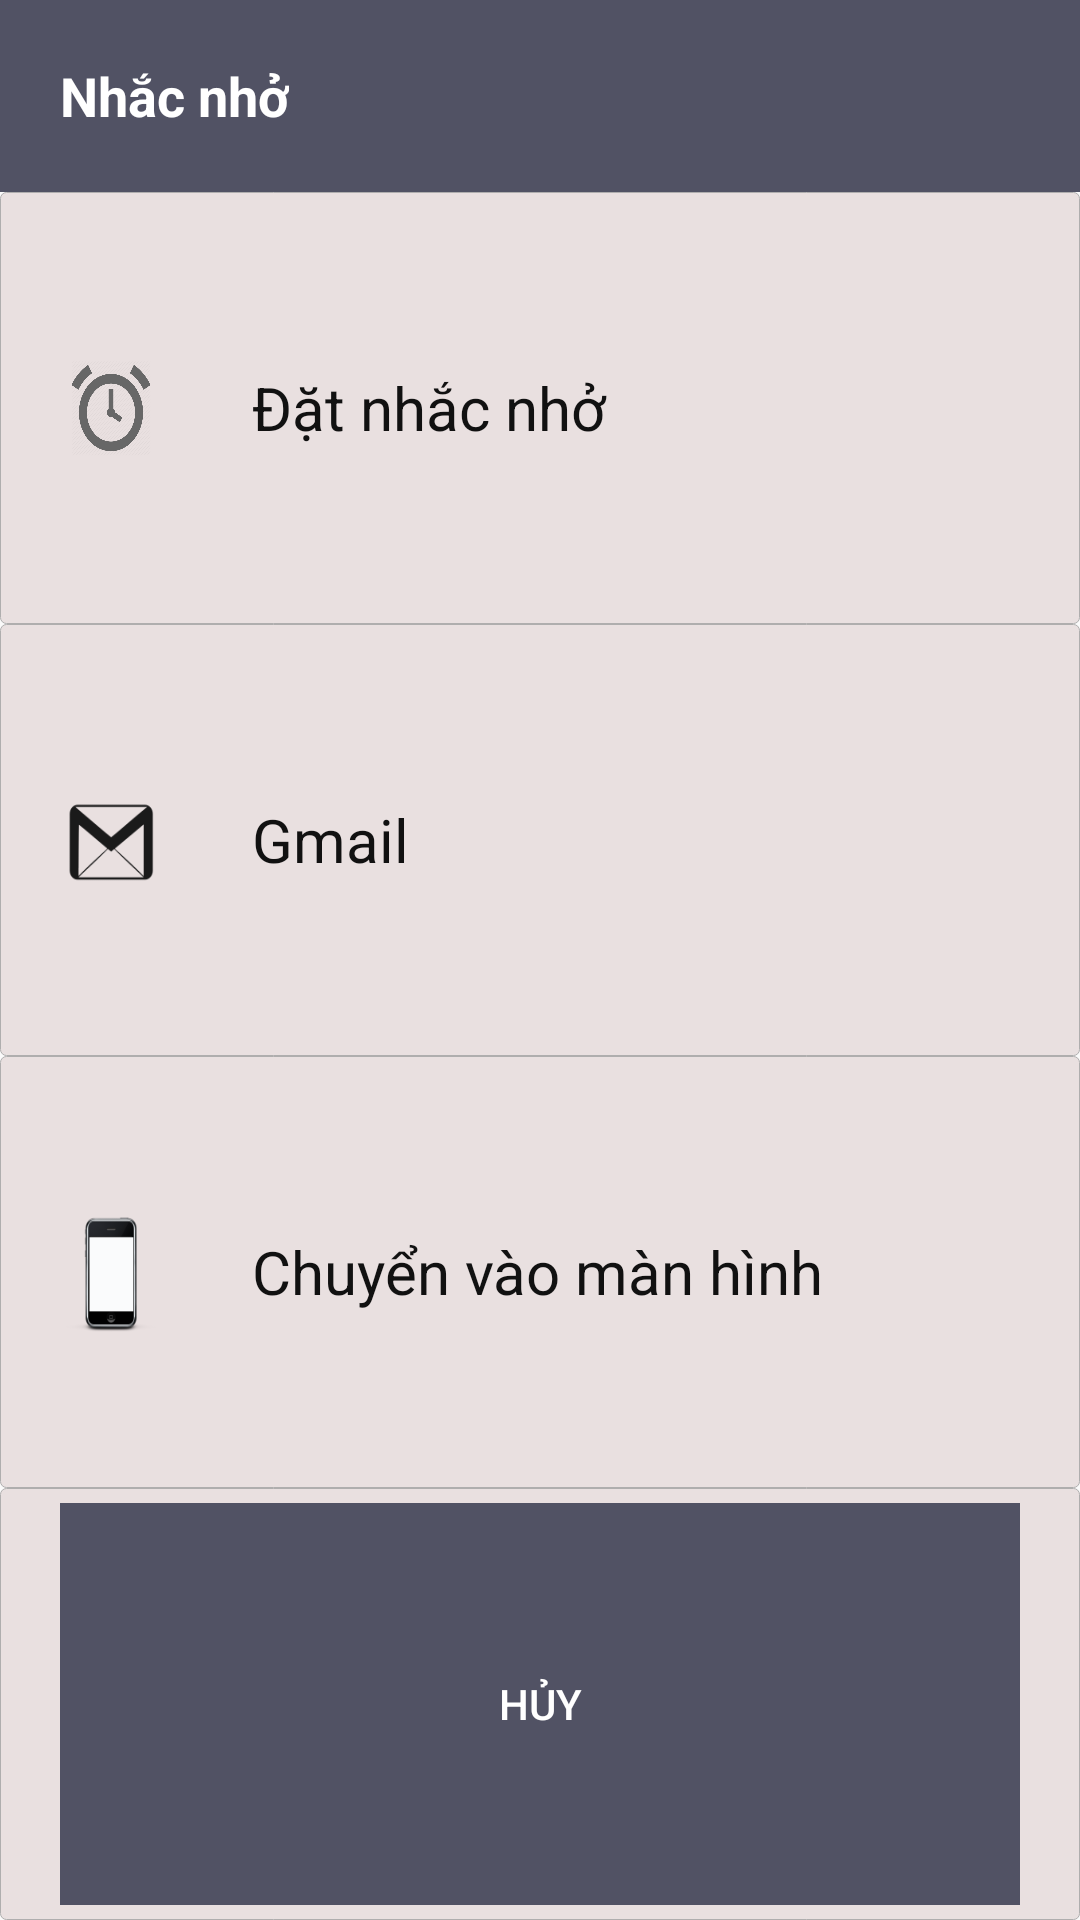

Icons on this 1080px x 1920px Android screen, each with its box as (x1, y1, x2, y2):
alarm: (72, 365, 150, 451)
